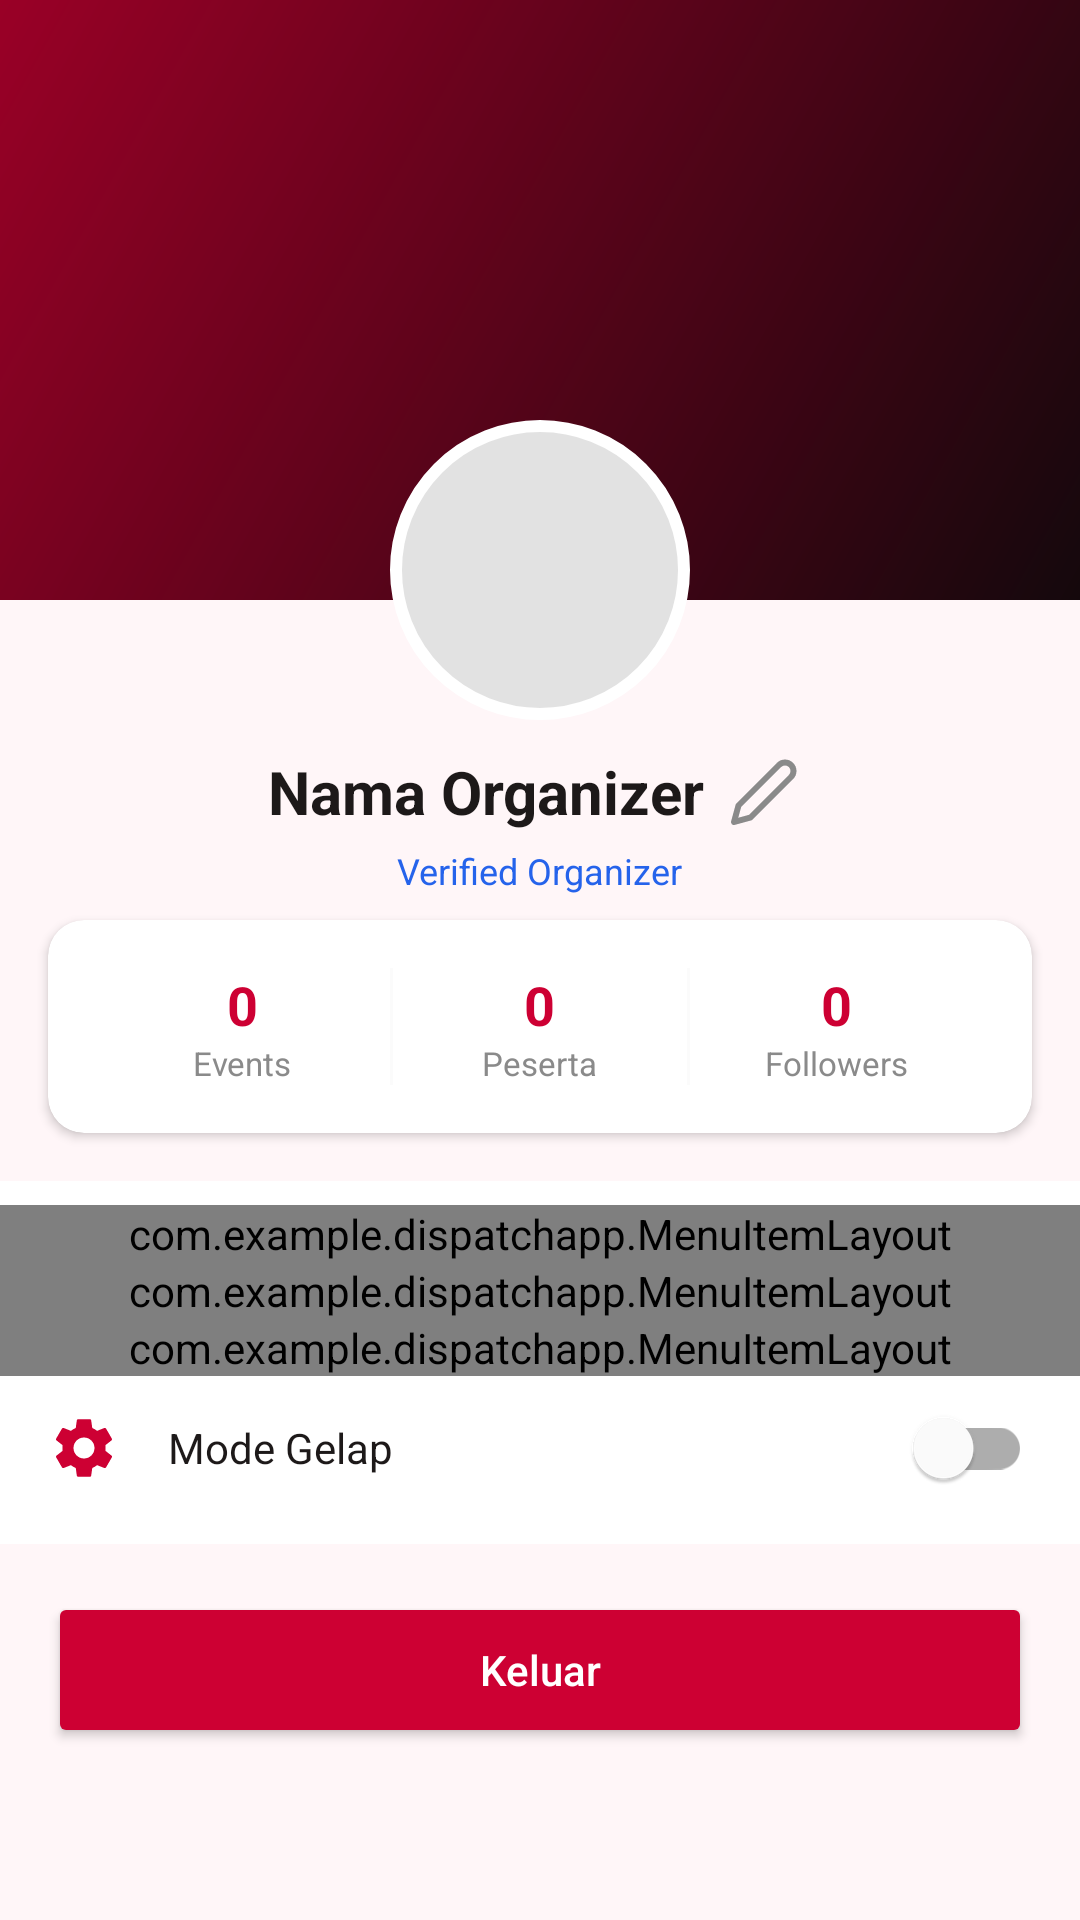

Named icons in this screenshot (1080px×1920px) and their bounding boxes, [x1, y1, x2, y2]:
edit: [731, 759, 797, 825]
settings: [56, 1419, 112, 1477]
